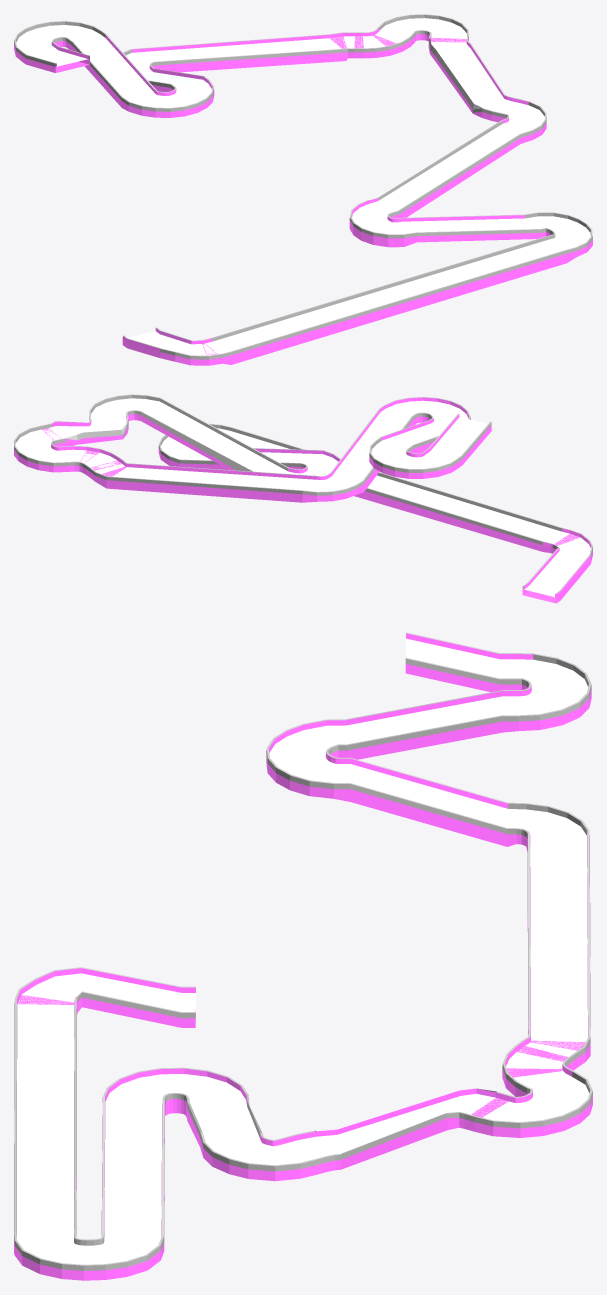
The model's file is Track.fbx.
3 renders of one model, top to bottom at view 1: azimuth 30°, elevation 25°; view 2: azimuth 150°, elevation 25°; view 3: azimuth 270°, elevation 25°, orthographic. The views are drawn at different scales.
Visible parts, largest first — view 1: Track2; view 2: Track2; view 3: Track2.
Part boxes in pixels (x1=…): Track2: x1=14, y1=14, x2=592, y2=365; Track2: x1=14, y1=394, x2=592, y2=603; Track2: x1=14, y1=632, x2=592, y2=1280.
Bounding box in the file's own units: 22777 × 11410 × 16246.
